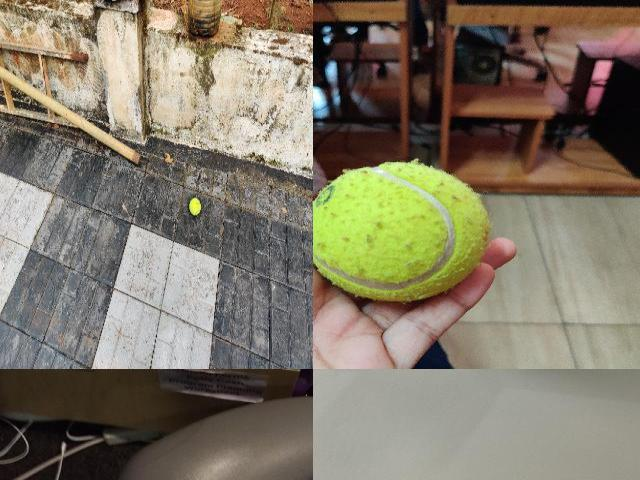tennis-ball: (313, 162, 491, 302), (188, 197, 200, 215)
